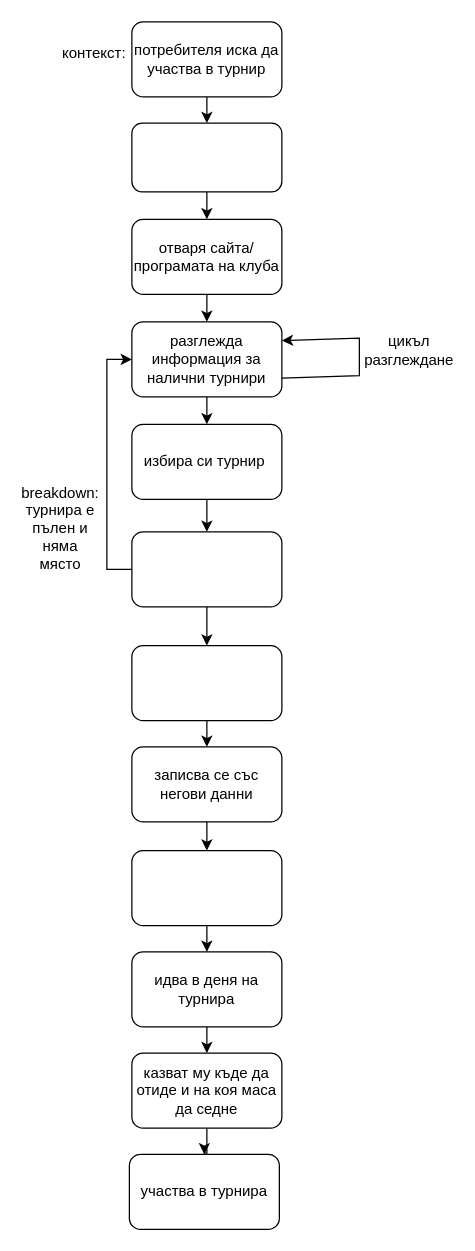
Some shapes in this 475 by 1251 pixel diagram are drawn without their labels. The shapes that lost their labels are listed below. From the top down, each one's centre as x and y in pixels, then its label:
At (206,157): "търси информация за турнира".
At (206,569): "проверява дали има свободни места".
At (206,682): "има свободни места".
At (206,887): "получава информация за турнира по емейл".
